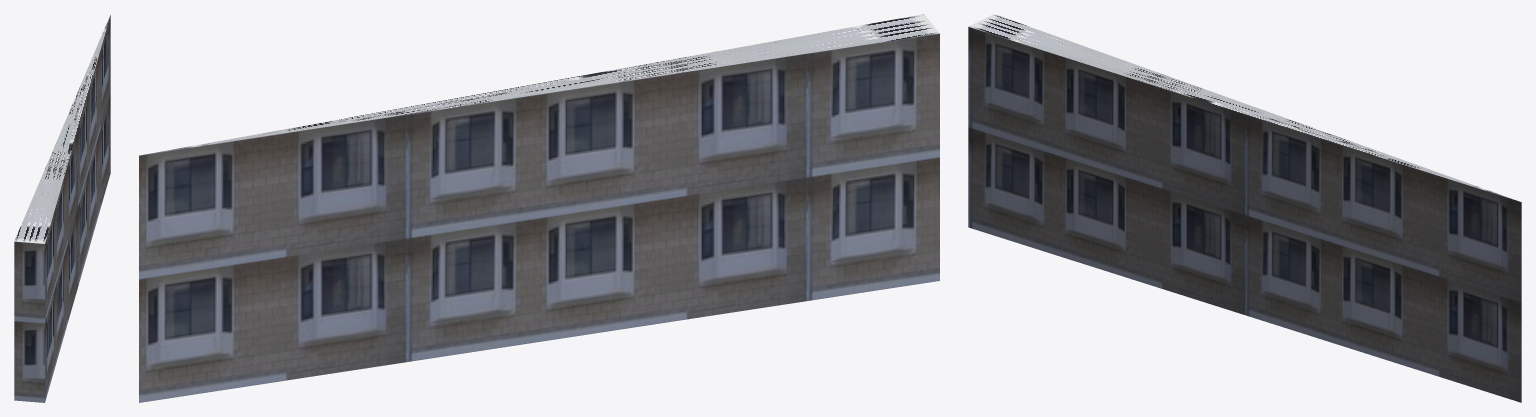
File: ResTex__1081.fbx
3 views of the same model, side by side, from view 1: azimuth 30°, elevation 25°; view 2: azimuth 150°, elevation 25°; view 3: azimuth 270°, elevation 25° (orthographic). The views are drawn at different scales.
Parts seen in each view (by area): view 1: CityEngineMaterial_3_m, CityEngineMaterial_4_m; view 2: CityEngineMaterial_3_m, CityEngineMaterial_4_m; view 3: CityEngineMaterial_3_m, CityEngineMaterial_4_m.
Boxes of the visible parts, <box> form: CityEngineMaterial_3_m: <box>14,15,110,402</box>; CityEngineMaterial_4_m: <box>14,15,110,243</box>; CityEngineMaterial_3_m: <box>139,33,939,402</box>; CityEngineMaterial_4_m: <box>143,14,939,154</box>; CityEngineMaterial_3_m: <box>968,27,1521,402</box>; CityEngineMaterial_4_m: <box>968,14,1516,200</box>.
Bounding box in the file's own units: 12.07 × 6 × 15.
Materials: 2 (2 with a texture image).
